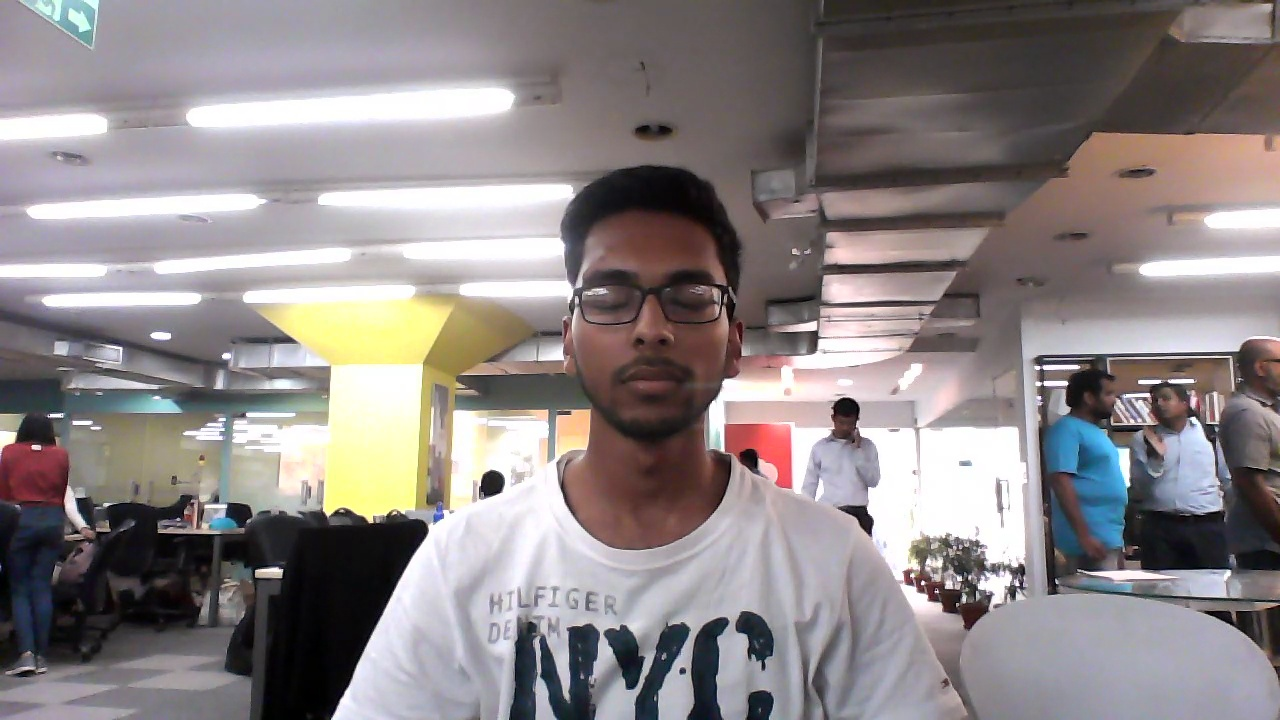closed: (557, 155, 751, 450)
